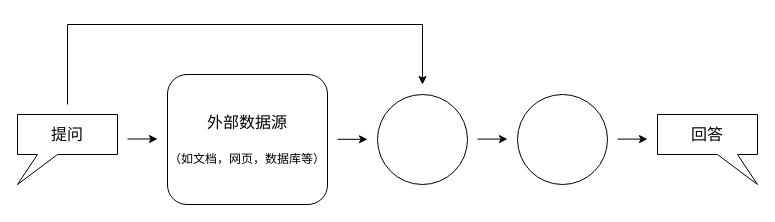
The diagram is 775 pixels wide and 222 high, and some of its shapes have lost their labels. Each missing label, with the centre of its shape:
大规模语言模型: pixel 562 139
提示词: pixel 422 139
